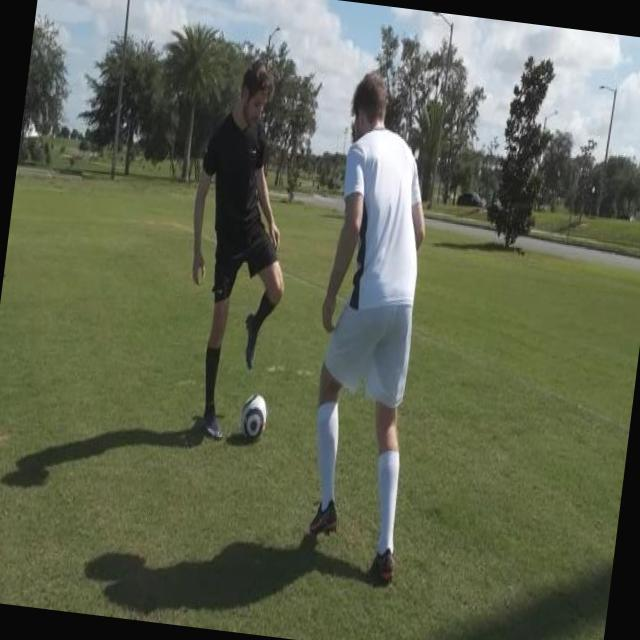Soccer Ball: (237, 386, 270, 447)
